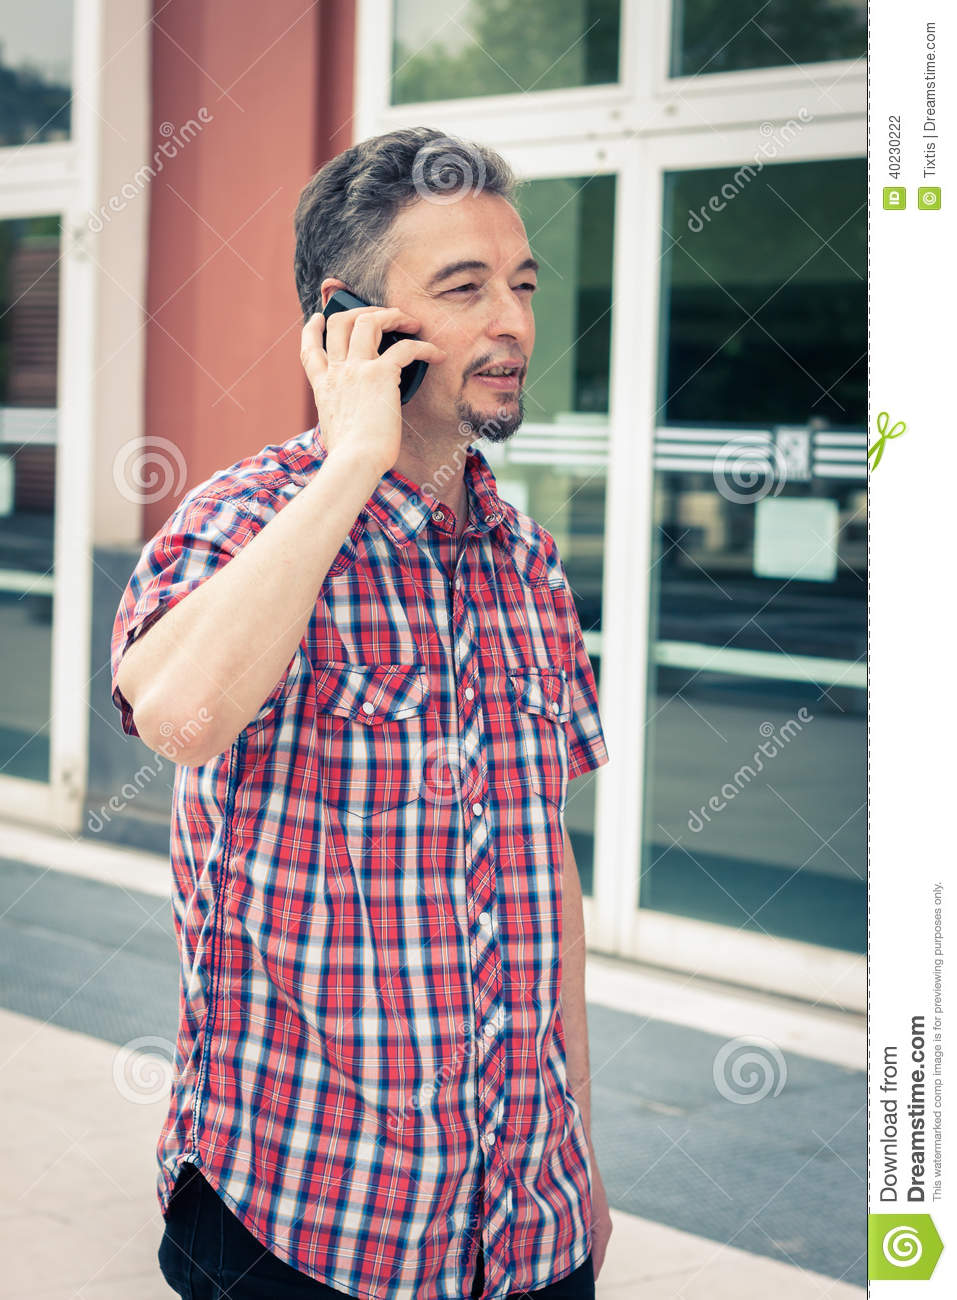phone: (319, 290, 431, 408)
talk: (300, 248, 541, 500)
